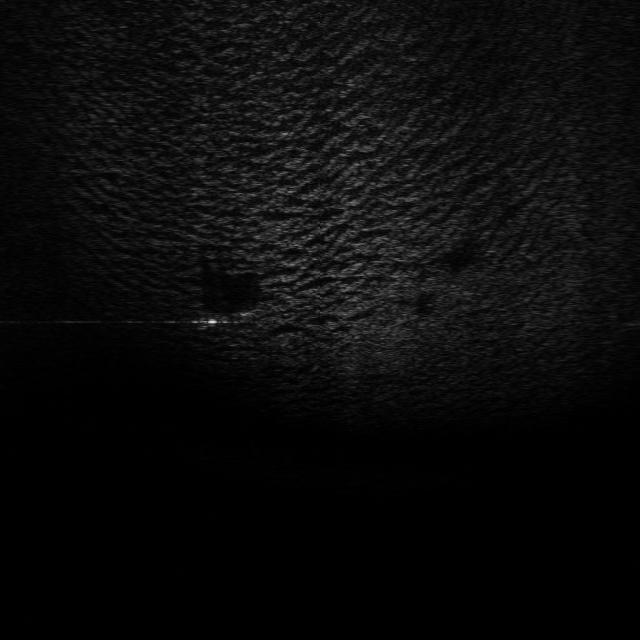plane: (194, 301, 268, 332)
